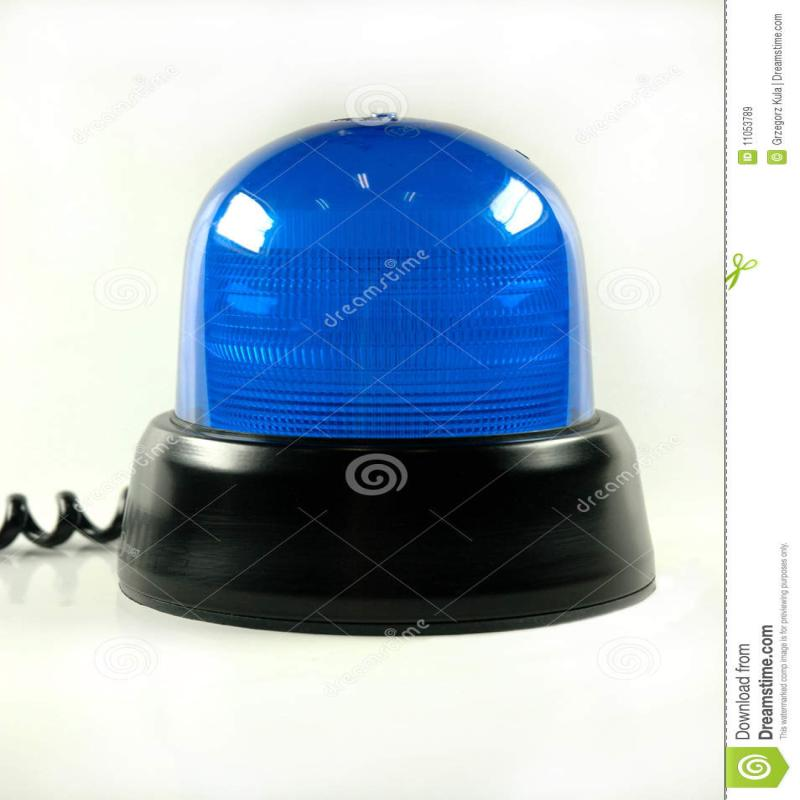AmbulanceSiren: (137, 113, 725, 671)
